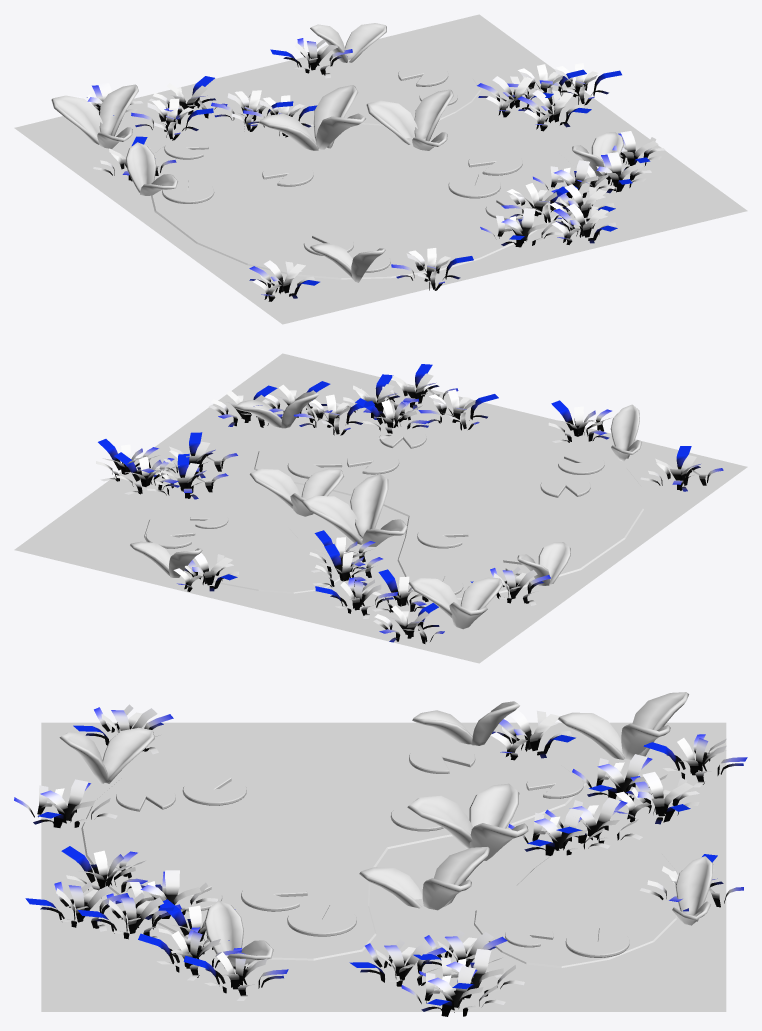
Rendered from TILE_LAKE.fbx.
3 renders of one model, top to bottom at view 1: azimuth 30°, elevation 25°; view 2: azimuth 150°, elevation 25°; view 3: azimuth 270°, elevation 25°, orthographic. The views are drawn at different scales.
Visible parts, largest first — view 1: FLOOR.001, Cube.010, GRASS, BUSHES, Cylinder.010, Cylinder.011, Cylinder.004, Cylinder.013, Cylinder.006, Cylinder.005, Cylinder.009, Cylinder.007; view 2: FLOOR.001, Cube.010, GRASS, BUSHES, Cylinder.011, Cylinder.004, Cylinder.010, Cylinder.013, Cylinder.007, Cylinder.008, Cylinder.009, Cylinder.003; view 3: FLOOR.001, Cube.010, GRASS, BUSHES, Cylinder.010, Cylinder.011, Cylinder.006, Cylinder.007, Cylinder.013, Cylinder.008, Cylinder.005, Cylinder.003 (+2 smaller).
Part boxes in pixels (bbox=[...]): FLOOR.001: bbox=[14, 14, 747, 324]; Cube.010: bbox=[151, 62, 576, 279]; GRASS: bbox=[74, 38, 665, 301]; BUSHES: bbox=[51, 23, 623, 282]; Cylinder.010: bbox=[468, 150, 522, 175]; Cylinder.011: bbox=[448, 174, 500, 198]; Cylinder.004: bbox=[262, 162, 313, 186]; Cylinder.013: bbox=[398, 63, 448, 86]; Cylinder.006: bbox=[162, 179, 214, 203]; Cylinder.005: bbox=[164, 138, 208, 159]; Cylinder.009: bbox=[485, 198, 531, 219]; Cylinder.007: bbox=[303, 233, 353, 255]; FLOOR.001: bbox=[14, 353, 747, 663]; Cube.010: bbox=[144, 420, 643, 599]; GRASS: bbox=[96, 364, 723, 643]; BUSHES: bbox=[130, 391, 641, 629]; Cylinder.011: bbox=[347, 450, 399, 474]; Cylinder.004: bbox=[417, 524, 468, 548]; Cylinder.010: bbox=[287, 453, 342, 478]; Cylinder.013: bbox=[145, 525, 195, 548]; Cylinder.007: bbox=[540, 474, 590, 497]; Cylinder.008: bbox=[558, 453, 604, 474]; Cylinder.009: bbox=[379, 427, 426, 448]; Cylinder.003: bbox=[190, 511, 228, 528]; FLOOR.001: bbox=[41, 722, 726, 1011]; Cube.010: bbox=[81, 733, 679, 967]; GRASS: bbox=[14, 704, 747, 1016]; BUSHES: bbox=[59, 692, 713, 969]; Cylinder.010: bbox=[287, 904, 356, 936]; Cylinder.011: bbox=[241, 880, 307, 911]; Cylinder.006: bbox=[409, 743, 475, 773]; Cylinder.007: bbox=[182, 775, 246, 805]; Cylinder.013: bbox=[565, 928, 629, 957]; Cylinder.008: bbox=[116, 784, 175, 811]; Cylinder.005: bbox=[526, 772, 583, 798]; Cylinder.003: bbox=[505, 924, 553, 947].
Bounding box in the file's own units: 212 × 29.81 × 214.
